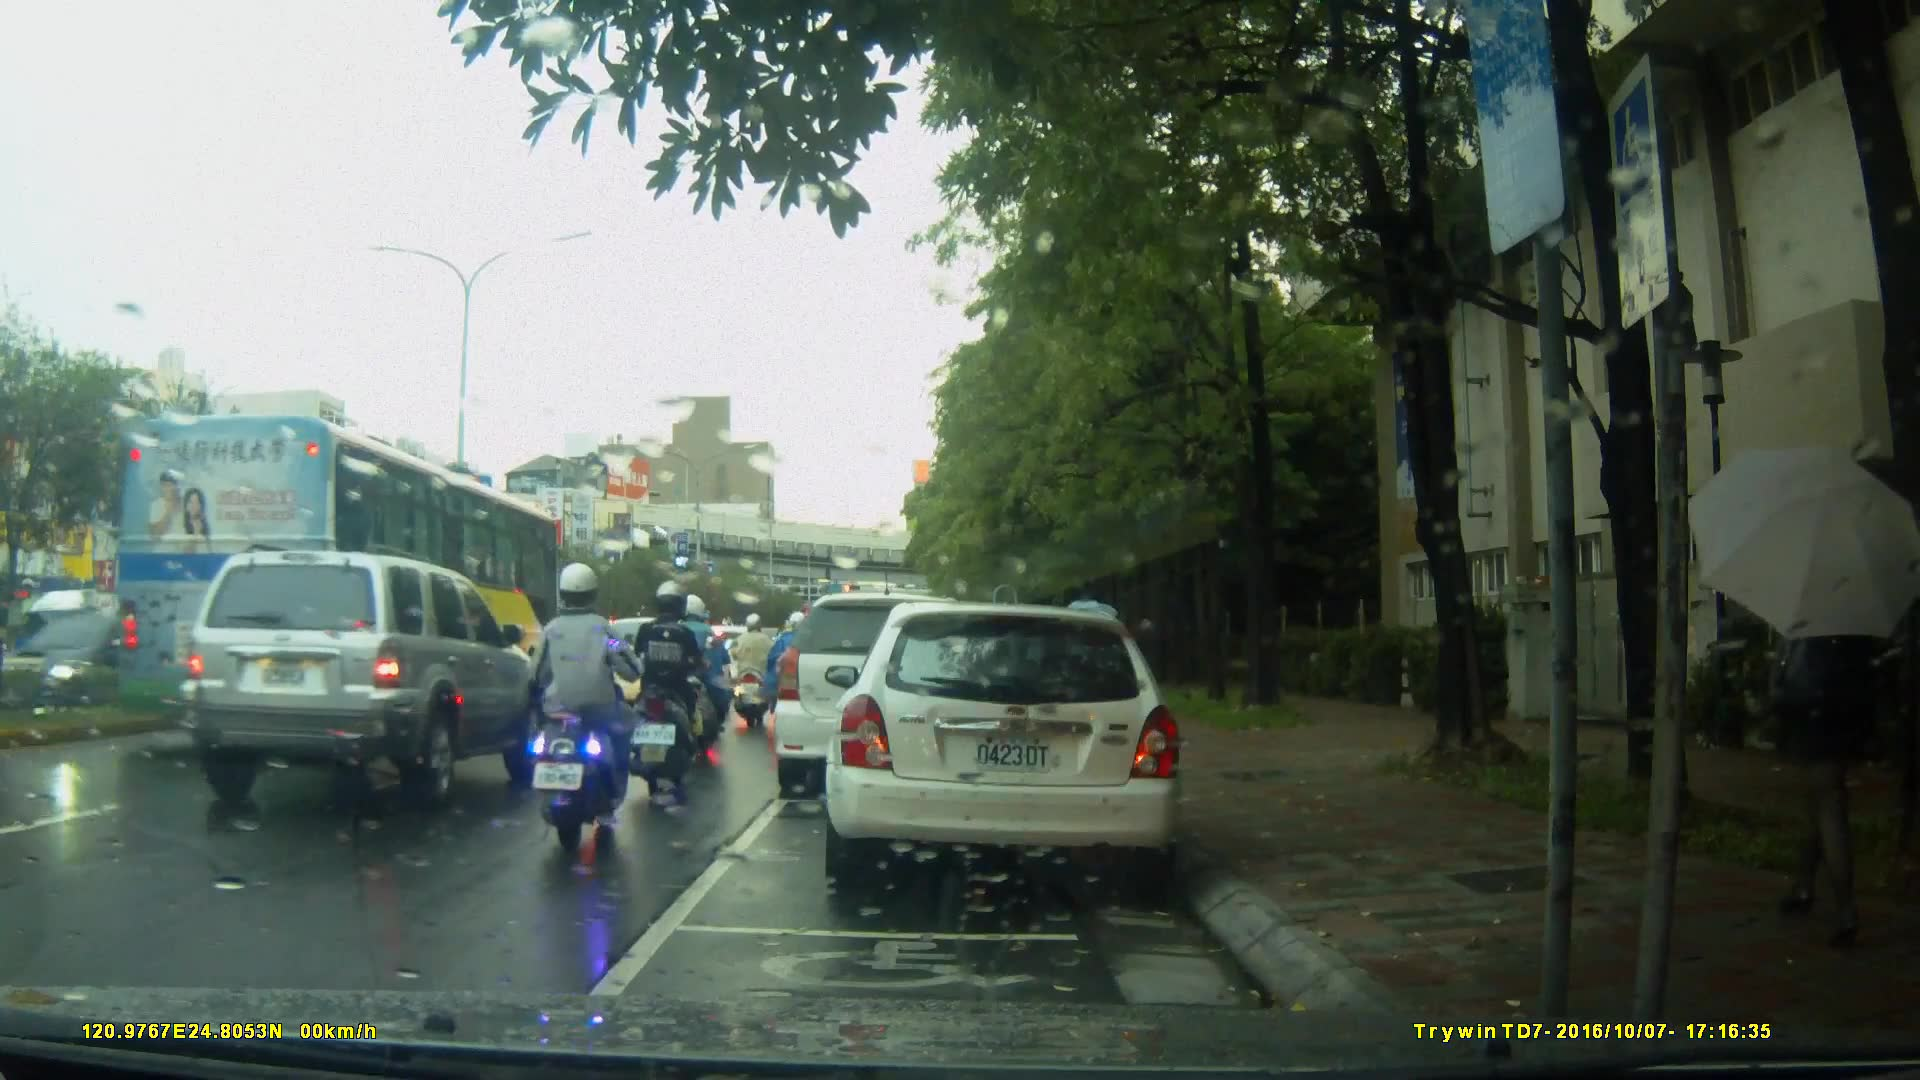pedestrian: (1747, 514, 1886, 936)
rider: (525, 560, 637, 844), (626, 577, 709, 805), (669, 592, 741, 752), (734, 610, 784, 732), (766, 612, 816, 726)
vehicle: (112, 411, 567, 744), (835, 594, 1194, 898), (175, 546, 548, 809), (776, 590, 1026, 784), (1, 611, 213, 714)
